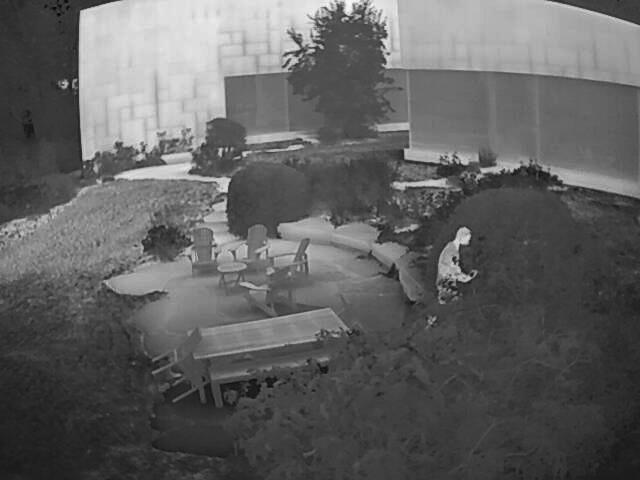person: (435, 226, 476, 308)
